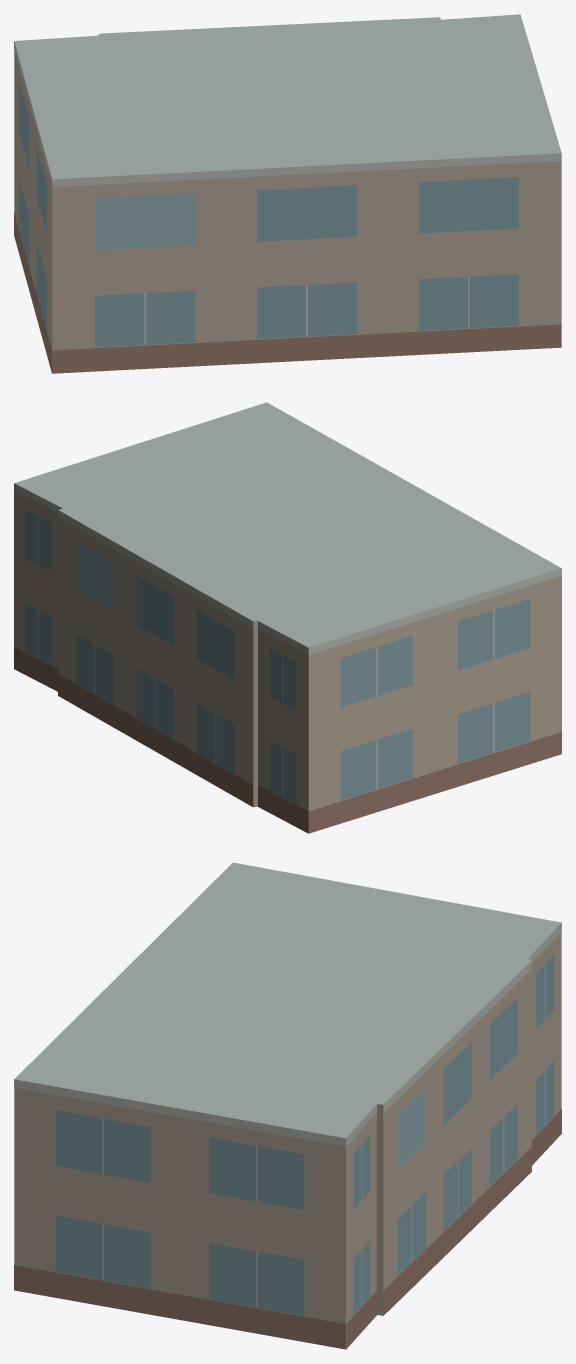
File: survey-upis-32567316.glb
3 views of the same model, one above another, from view 1: azimuth 30°, elevation 25°; view 2: azimuth 150°, elevation 25°; view 3: azimuth 270°, elevation 25° (orthographic). The views are drawn at different scales.
Visible parts, largest first — view 1: survey-upis-32567316.tmp; view 2: survey-upis-32567316.tmp; view 3: survey-upis-32567316.tmp.
Boxes of the visible parts, x1,y1,x2,y2 form: survey-upis-32567316.tmp: [14, 14, 561, 373]; survey-upis-32567316.tmp: [14, 402, 561, 833]; survey-upis-32567316.tmp: [14, 862, 561, 1349].
Bounding box in the file's own units: 17.11 × 6.1 × 14.35.
